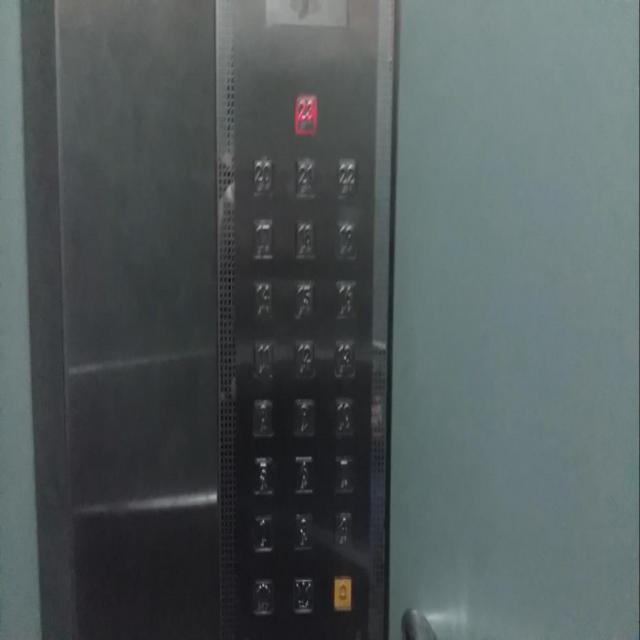1: (253, 515, 273, 553)
10: (332, 398, 355, 438)
11: (253, 339, 274, 378)
12: (292, 338, 316, 378)
13: (332, 339, 356, 378)
14: (252, 280, 273, 321)
15: (294, 280, 314, 318)
16: (335, 280, 357, 322)
17: (252, 218, 276, 260)
18: (294, 218, 316, 258)
19: (334, 218, 357, 262)
20: (251, 154, 274, 198)
21: (293, 158, 318, 199)
22: (335, 153, 358, 202)
23: (294, 93, 318, 136)
4: (334, 510, 354, 551)
5: (252, 458, 274, 498)
6: (294, 456, 314, 494)
7: (333, 454, 354, 496)
8: (252, 399, 274, 437)
9: (292, 399, 316, 439)
alarm: (332, 576, 352, 612)
blur: (295, 511, 315, 552)
close: (292, 578, 312, 616)
open: (253, 577, 273, 616)
